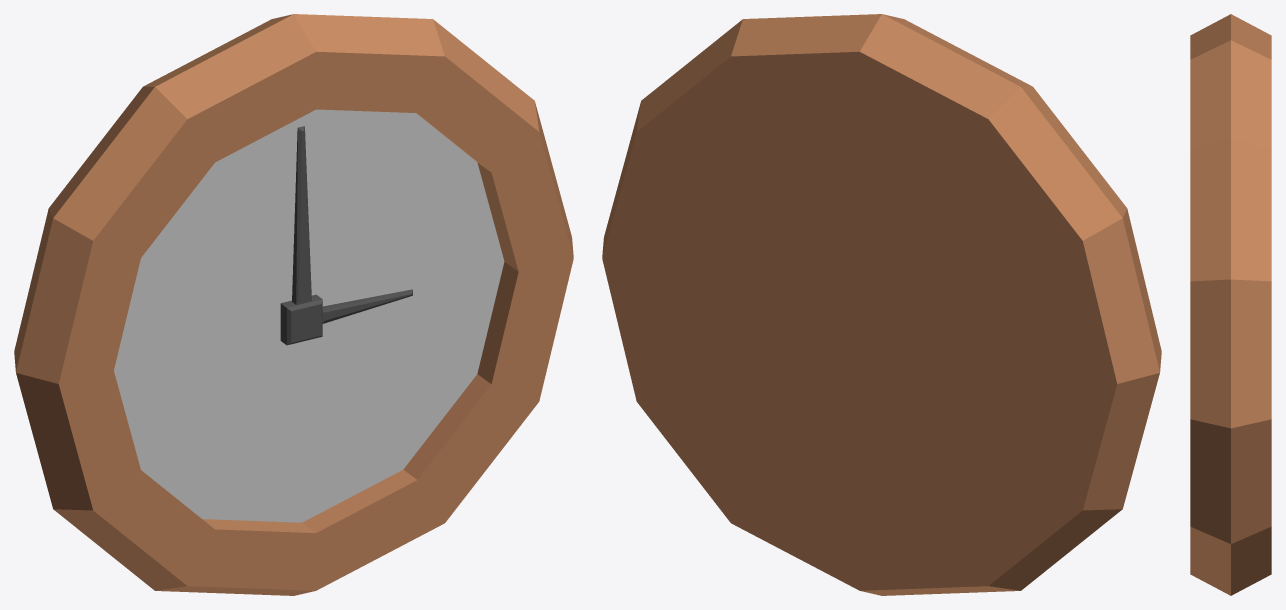
File: clock.gltf
3 renders of one model, left to right at view 1: azimuth 30°, elevation 25°; view 2: azimuth 150°, elevation 25°; view 3: azimuth 270°, elevation 25°, orthographic. The views are drawn at different scales.
Visible parts, largest first — view 1: Clock; view 2: Clock; view 3: Clock.
Boxes of the visible parts, x1=… form: Clock: x1=14, y1=14, x2=573, y2=595; Clock: x1=602, y1=14, x2=1161, y2=595; Clock: x1=1190, y1=14, x2=1271, y2=595.
Size of the model in its own units: 1.75 by 1.75 by 0.2431.
